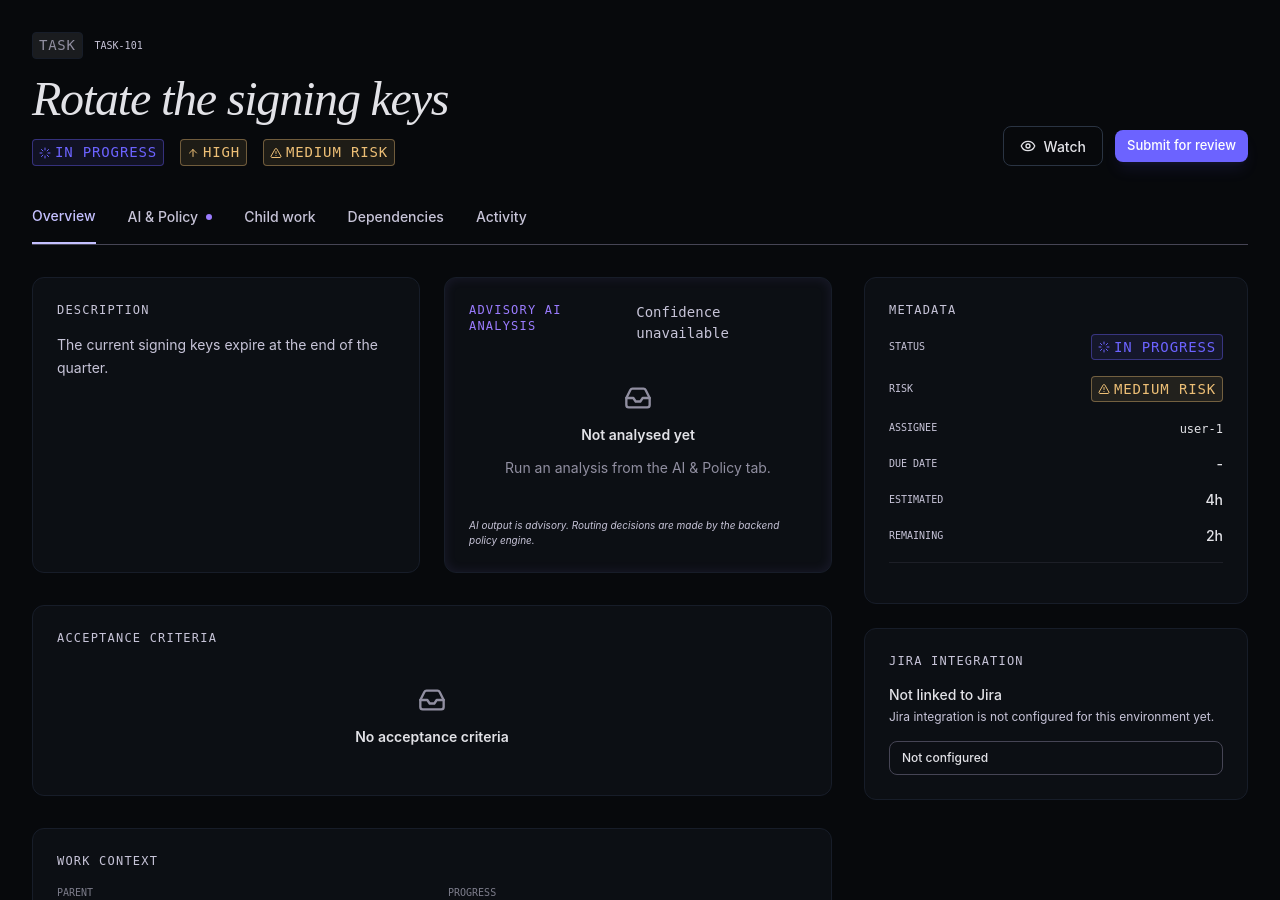
Scenario: WorkItemDetailPage › clarification questions › shows a read-only notice to someone who is not the requester
Click the tab "AI & Policy".
click(170, 225)  # box [128,207,212,243]
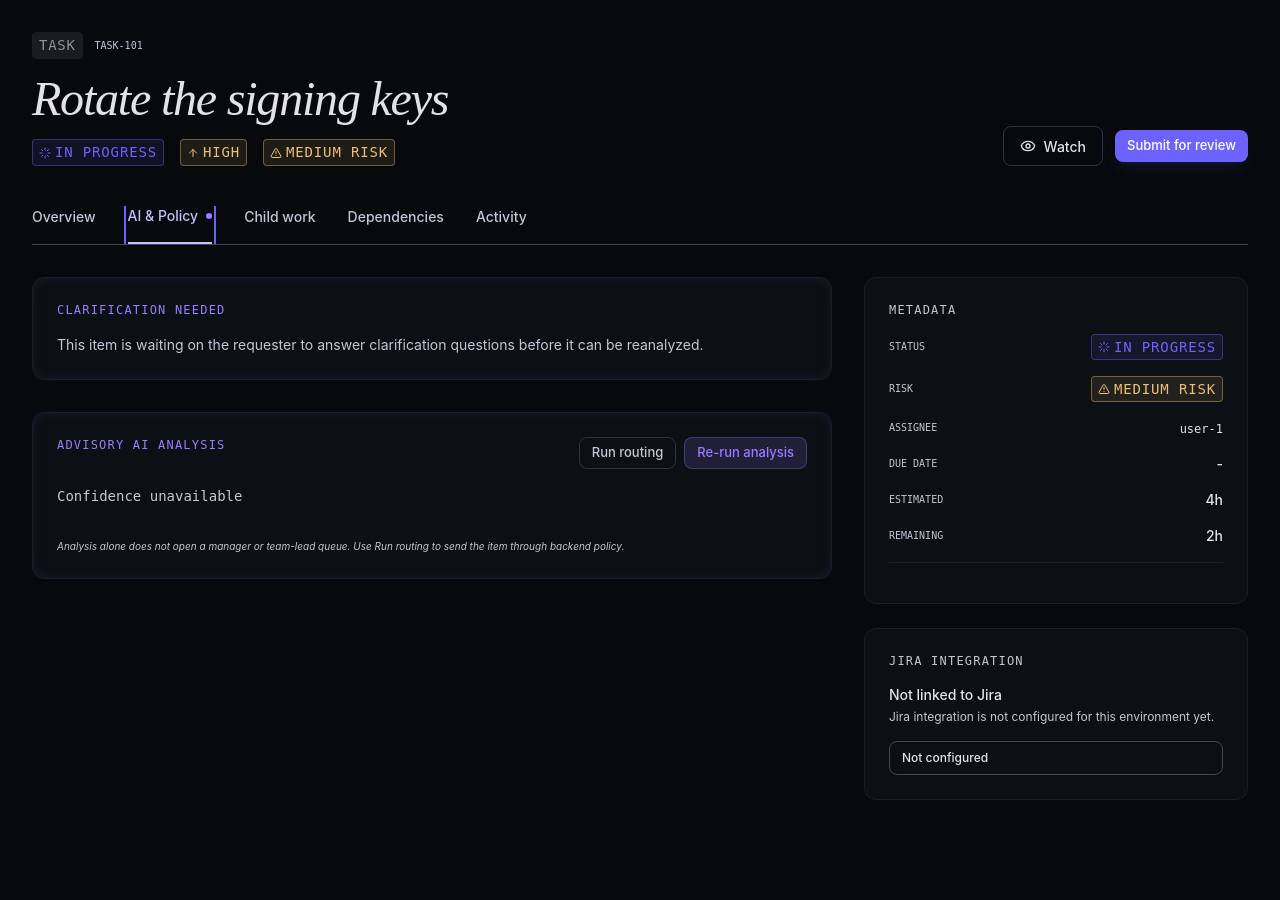
Result: the heading "Clarification needed" is shown at [57,302,226,318]
Result: the text "waiting on the requester to answer clarification questions" is shown at [57,336,704,353]
